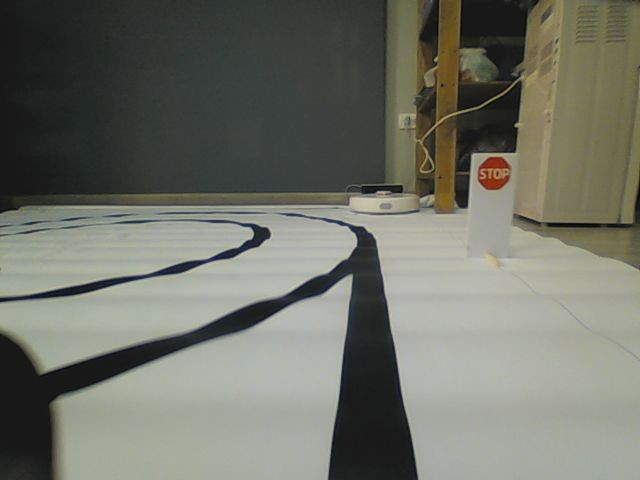Stop: (475, 155, 513, 190)
